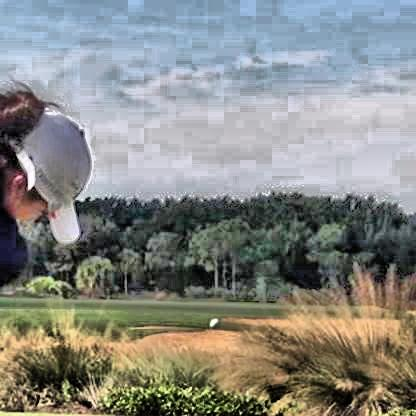golfball: (206, 314, 217, 329)
